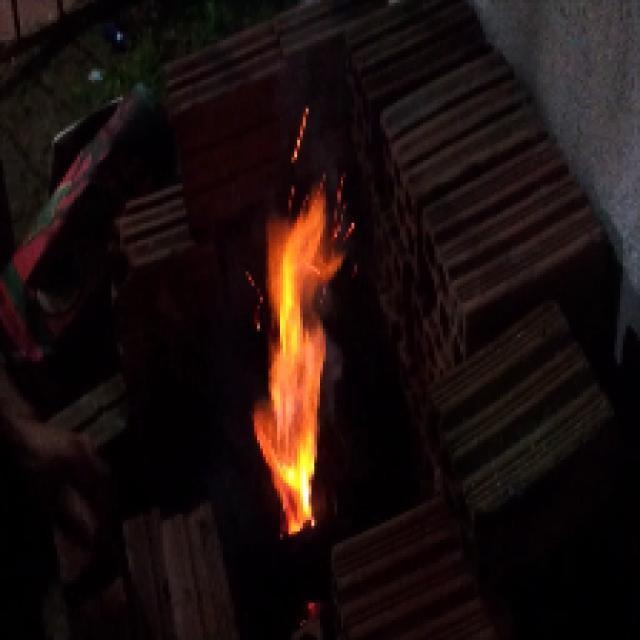fire: (207, 137, 402, 570)
